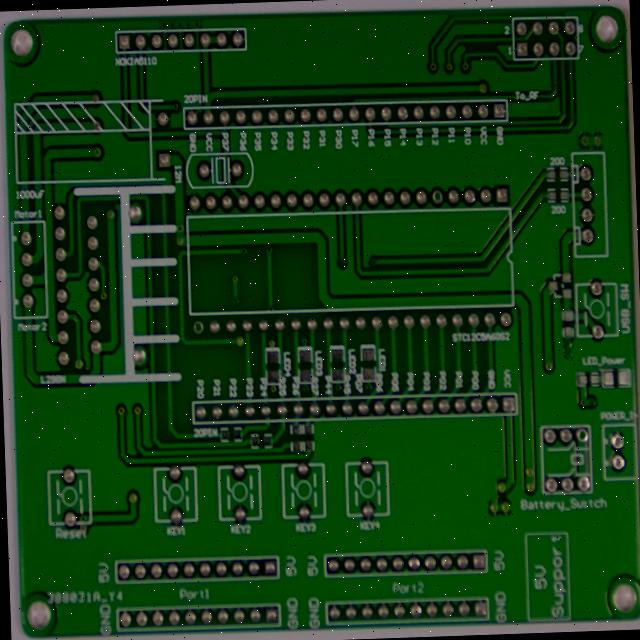missing_hole: (429, 186, 447, 208), (573, 426, 590, 444), (89, 142, 104, 161), (190, 320, 206, 337), (175, 222, 185, 235)
